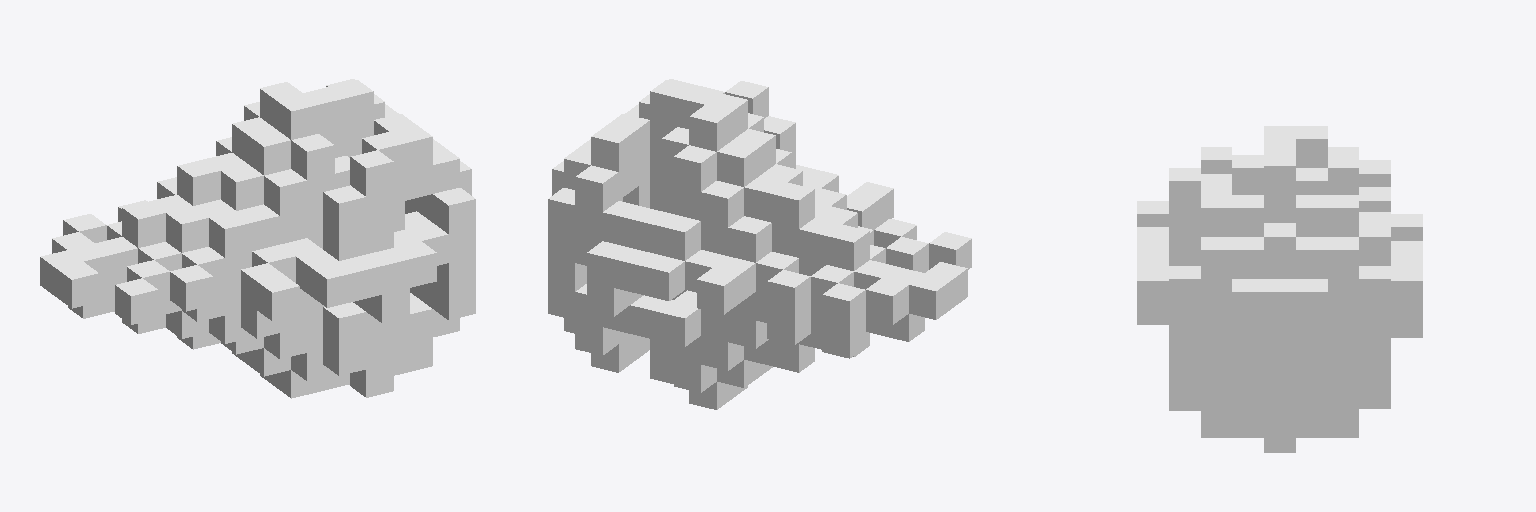
The model's file is fireball-0.obj.
3 views of the same model, side by side, from view 1: azimuth 30°, elevation 25°; view 2: azimuth 150°, elevation 25°; view 3: azimuth 270°, elevation 25° (orthographic).
Visible parts, largest first — view 1: object 1; view 2: object 1; view 3: object 1.
Part boxes in pixels (bbox=[...]): object 1: bbox=[40, 79, 475, 398]; object 1: bbox=[548, 79, 971, 409]; object 1: bbox=[1137, 126, 1422, 452].
Size of the model in its own units: 1.4 by 1 by 0.9.